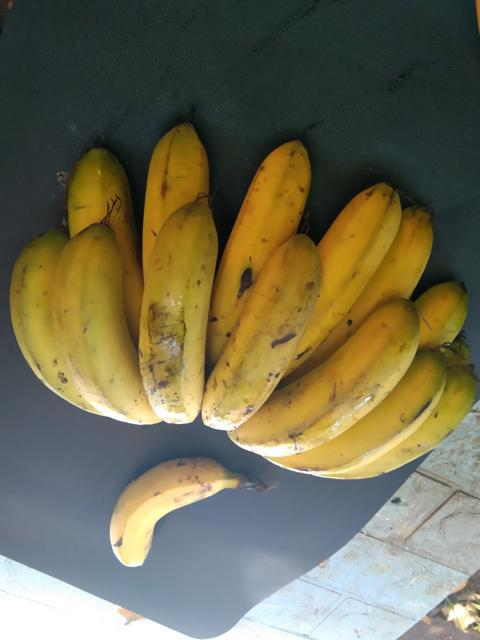ripe: (226, 320, 413, 467), (209, 233, 324, 442), (43, 219, 159, 421), (131, 197, 229, 425), (81, 442, 256, 569), (309, 181, 416, 329), (226, 139, 313, 313), (136, 116, 200, 235)
